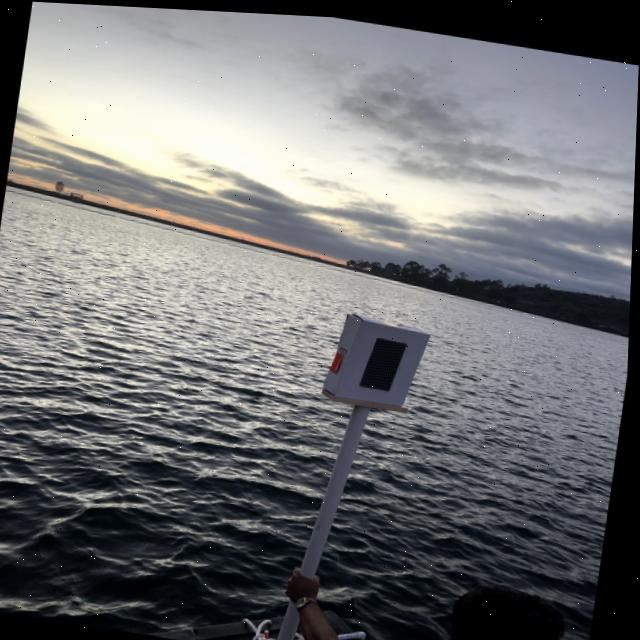led: (350, 319, 426, 419)
